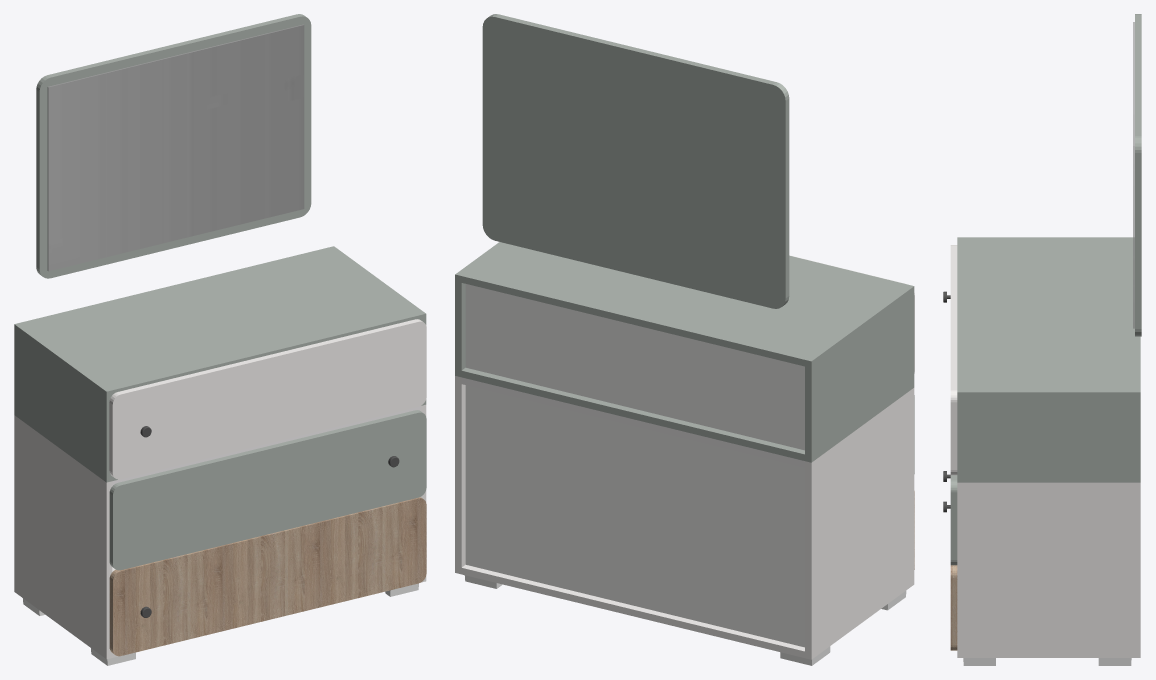
The model's file is vanity_domino.glb.
3 renders of one model, left to right at view 1: azimuth 30°, elevation 25°; view 2: azimuth 150°, elevation 25°; view 3: azimuth 270°, elevation 25°, orthographic. The views are drawn at different scales.
Visible parts, largest first — view 1: 3DGeom-1, 3DGeom-7, 3DGeom-2, 3DGeom-4, 3DGeom-3, 3DGeom-9; view 2: 3DGeom-1, 3DGeom-9, 3DGeom-2, 3DGeom-3; view 3: 3DGeom-1, 3DGeom-2, 3DGeom-4, 3DGeom-7, 3DGeom-9.
Part boxes in pixels (x1,y1,x2,y2): 3DGeom-1: (14,14,426,570); 3DGeom-7: (47,24,304,271); 3DGeom-2: (14,319,426,659); 3DGeom-4: (109,497,426,656); 3DGeom-3: (112,406,420,485); 3DGeom-9: (23,583,418,665); 3DGeom-1: (455,14,914,473); 3DGeom-9: (464,284,906,665); 3DGeom-2: (455,255,914,659); 3DGeom-3: (461,377,804,467); 3DGeom-1: (950,14,1141,565); 3DGeom-2: (950,245,1140,657); 3DGeom-4: (950,565,957,650); 3DGeom-7: (1133,22,1134,328); 3DGeom-9: (963,658,1131,665).
Size of the model in its own units: 1 by 1.55 by 0.5413.
9 materials, 2 textured.
